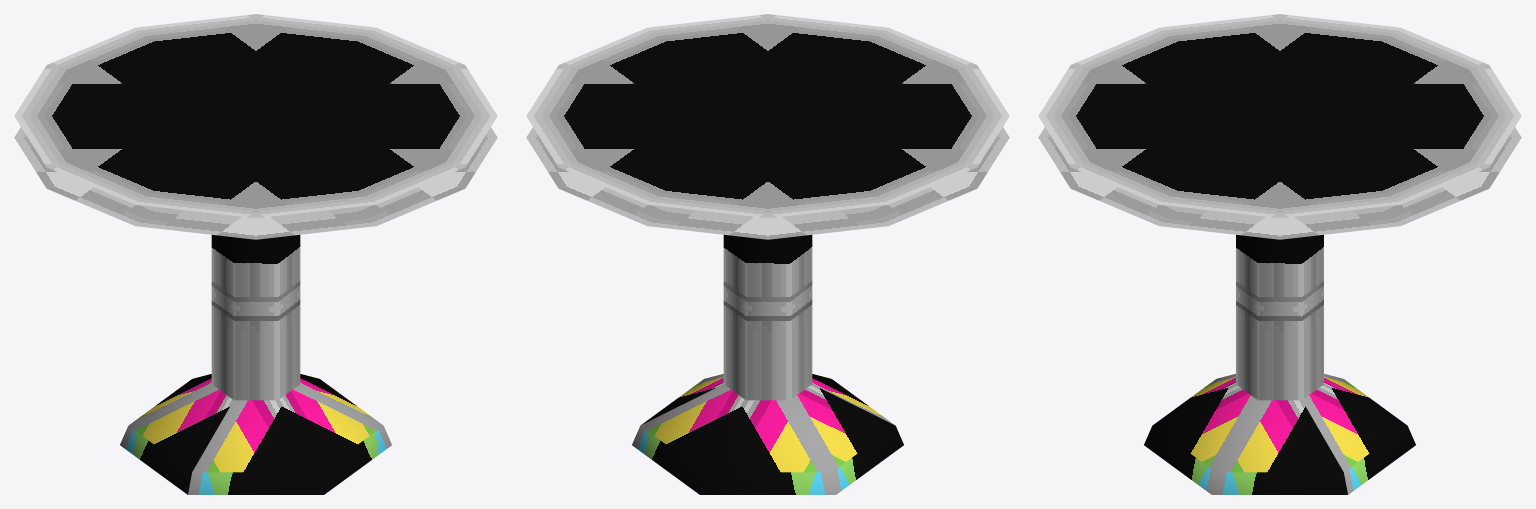
3 views of the same model, side by side, from view 1: azimuth 30°, elevation 25°; view 2: azimuth 150°, elevation 25°; view 3: azimuth 270°, elevation 25° (orthographic).
Visible parts, largest first — view 1: 3717kg_sk_ta0; view 2: 3717kg_sk_ta0; view 3: 3717kg_sk_ta0.
Boxes of the visible parts, x1,y1,x2,y2 form: 3717kg_sk_ta0: [14, 14, 497, 494]; 3717kg_sk_ta0: [526, 14, 1009, 494]; 3717kg_sk_ta0: [1038, 14, 1521, 494].
Bounding box in the file's own units: 0.9839 × 0.7385 × 0.9839.
1 material, 1 textured.
